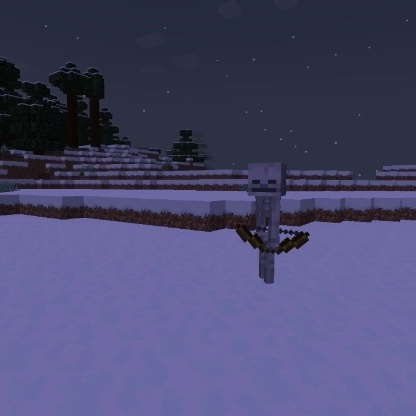skeleton: (233, 158, 313, 287)
